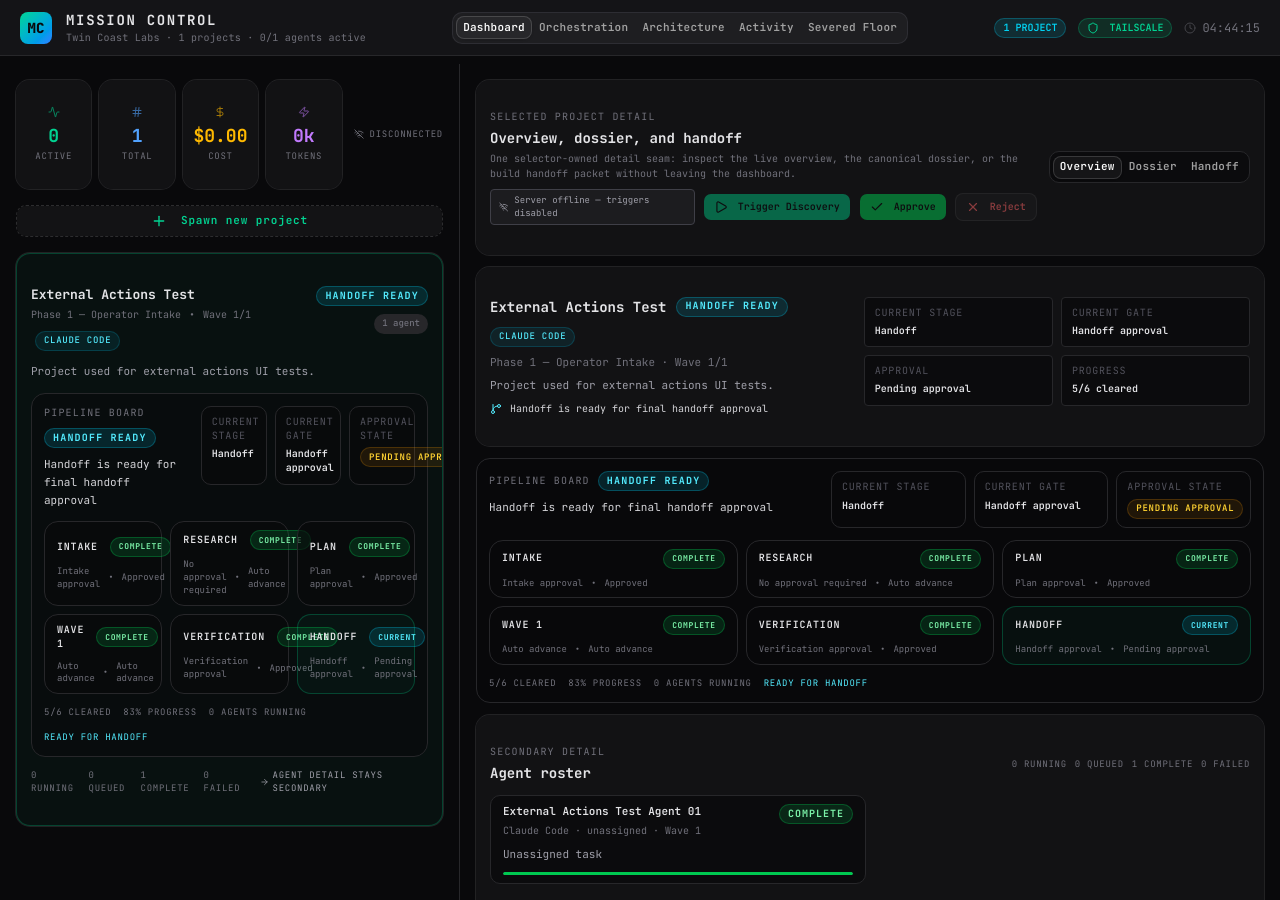
Scenario: ExternalActionsPanel UI › executing action › shows spinner and no action buttons for executing action
The width and height of the screenshot is (1280, 900).
Step 1. Click the tab "Handoff" → click(1215, 167), box [1184,156,1246,179]
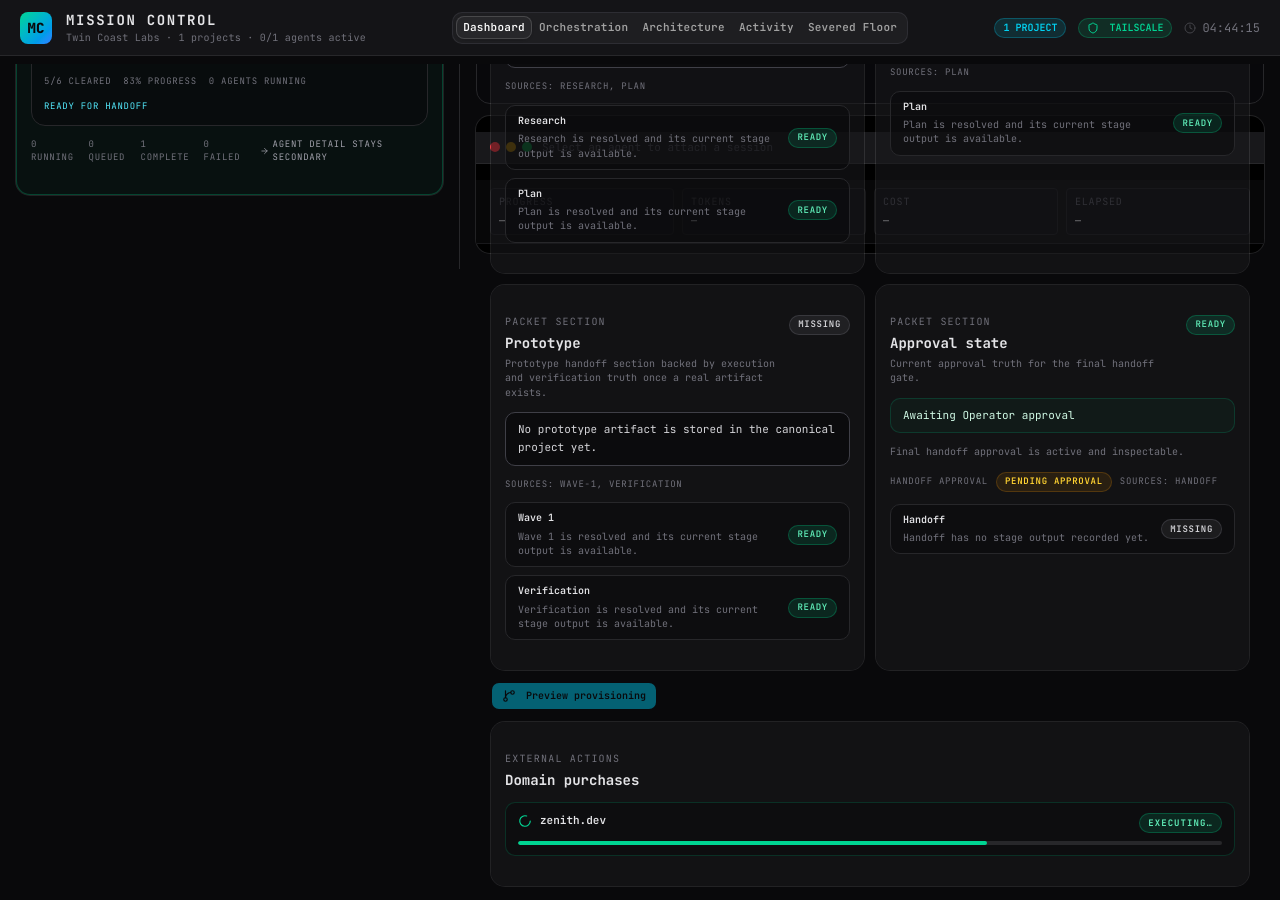
Expected: the element with test id "external-action-act-003" is shown, [505,802,1235,856]
Expected: the text "zenith.dev" is shown, [540,814,606,829]
